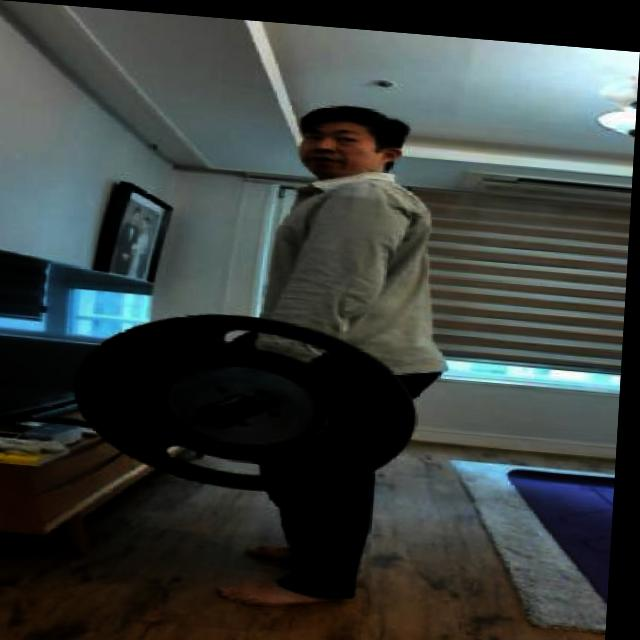barbell: (70, 295, 430, 507)
